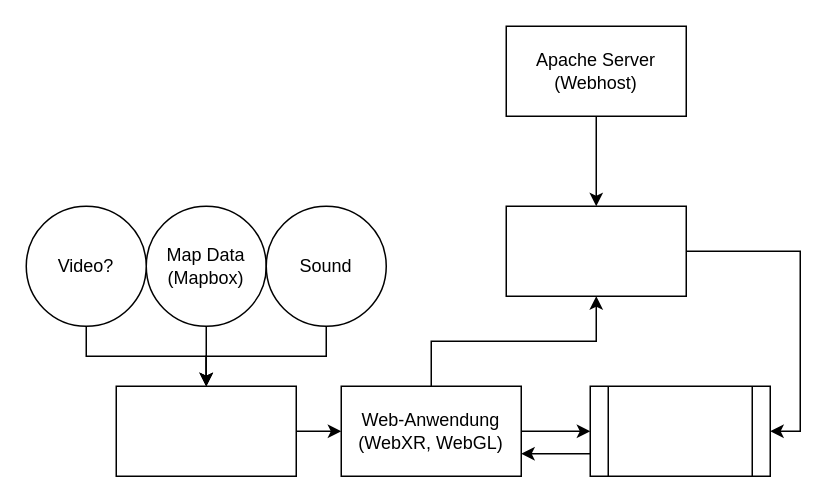
Image size: 839x503. Some labels were removed from this diagram. Each missing label, with the box of its shape:
Dateneingabe: (589, 385, 770, 476)
React-Web-App: (505, 205, 686, 296)
Unity: (115, 385, 296, 476)
